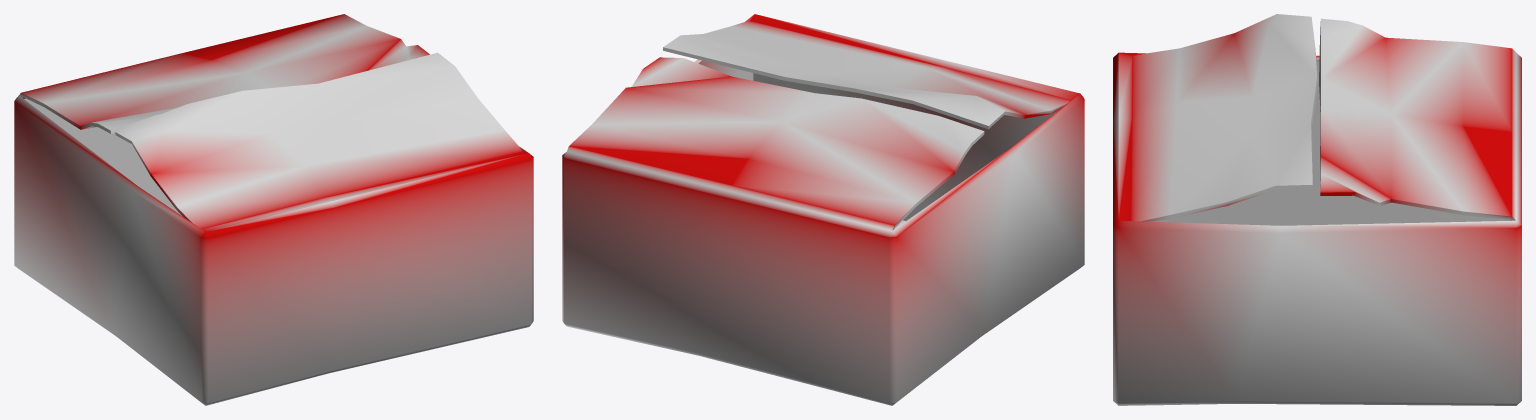
Rendered from Attic_Box_04_LP.glb.
The picture shows the model from 3 angles, left to right: view 1: azimuth 30°, elevation 25°; view 2: azimuth 150°, elevation 25°; view 3: azimuth 270°, elevation 25°; orthographic projection. The views are drawn at different scales.
Visible parts, largest first — view 1: Attic_Box_04_LP; view 2: Attic_Box_04_LP; view 3: Attic_Box_04_LP.
Boxes of the visible parts, left/top/right/bottom form: Attic_Box_04_LP: left=14, top=14, right=533, bottom=405; Attic_Box_04_LP: left=562, top=14, right=1084, bottom=405; Attic_Box_04_LP: left=1113, top=14, right=1521, bottom=405.
Size of the model in its own units: 0.7177 by 0.4462 by 0.7177.
